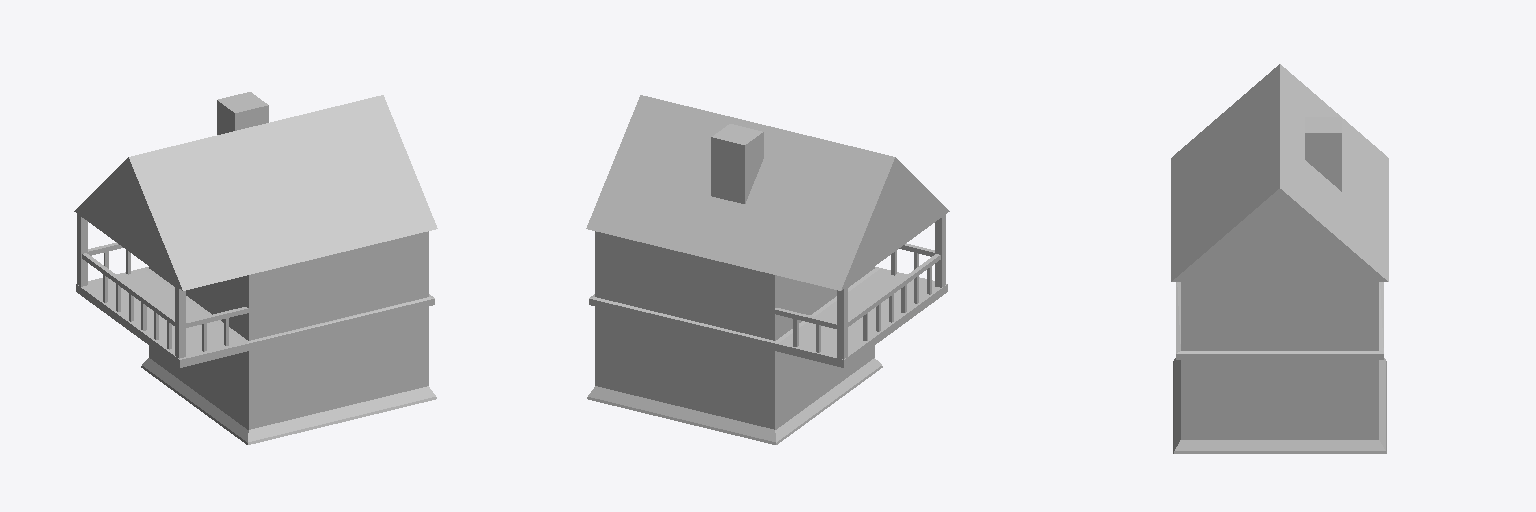
Rendered from house_8.obj.
3 renders of one model, left to right at view 1: azimuth 30°, elevation 25°; view 2: azimuth 150°, elevation 25°; view 3: azimuth 270°, elevation 25°, orthographic.
Visible parts, largest first — view 1: Cube.044_Cube.054; view 2: Cube.044_Cube.054; view 3: Cube.044_Cube.054.
Boxes of the visible parts, <box> form: Cube.044_Cube.054: <box>74,92,437,444</box>; Cube.044_Cube.054: <box>586,95,949,444</box>; Cube.044_Cube.054: <box>1171,64,1388,453</box>.
Bounding box in the file's own units: 8.51 × 8.62 × 6.29.